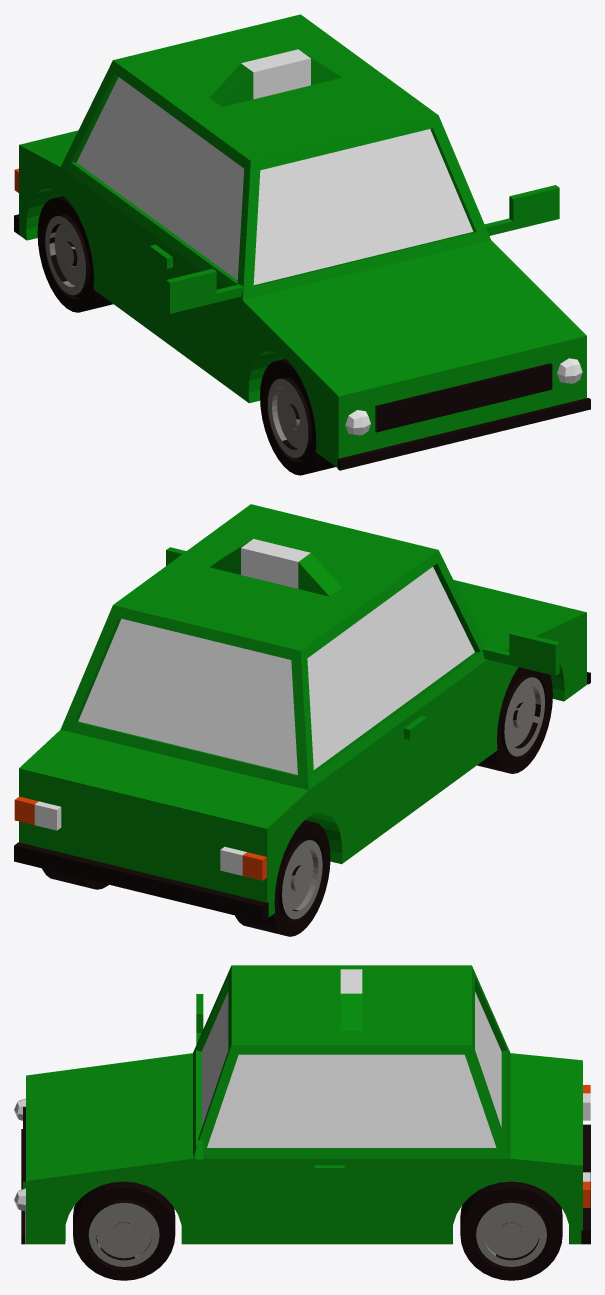
The model's file is GREENCAR.fbx.
3 views of the same model, one above another, from view 1: azimuth 30°, elevation 25°; view 2: azimuth 150°, elevation 25°; view 3: azimuth 270°, elevation 25° (orthographic). The views are drawn at different scales.
Visible parts, largest first — view 1: Cube, Cube.001, Cube.006, Cube.005, Cube.002; view 2: Cube, Cube.001, Cube.006, Cube.005; view 3: Cube, Cube.005, Cube.006, Cube.001.
Part boxes in pixels (x1,y1,x2,y2): Cube: (19, 14, 586, 467); Cube.001: (14, 168, 559, 432); Cube.006: (37, 196, 113, 312); Cube.005: (260, 359, 335, 475); Cube.002: (337, 398, 590, 470); Cube: (19, 504, 586, 917); Cube.001: (14, 547, 559, 922); Cube.006: (42, 820, 330, 936); Cube.005: (477, 667, 552, 773); Cube: (26, 965, 582, 1244); Cube.005: (73, 1181, 175, 1280); Cube.006: (460, 1181, 562, 1280); Cube.001: (23, 994, 590, 1244).
Bounding box in the file's own units: 398 × 280 × 586.
